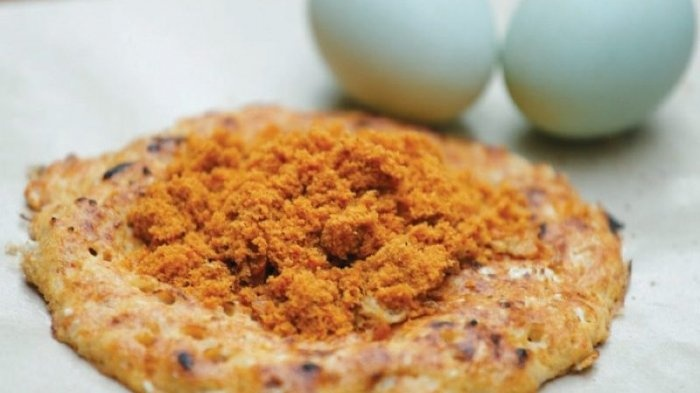kerak_telor: (2, 98, 628, 388)
